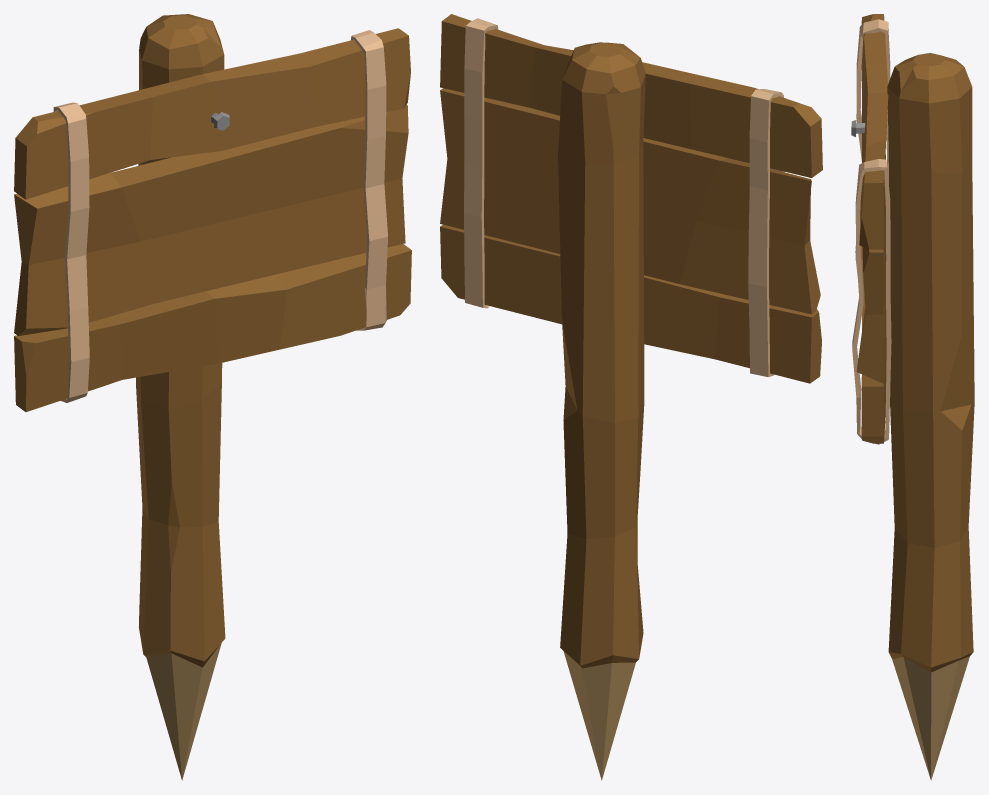
The picture shows the model from 3 angles, left to right: view 1: azimuth 30°, elevation 25°; view 2: azimuth 150°, elevation 25°; view 3: azimuth 270°, elevation 25°; orthographic projection. The views are drawn at different scales.
Visible parts, largest first — view 1: WoodenSign; view 2: WoodenSign; view 3: WoodenSign.
Boxes of the visible parts, x1,y1,x2,y2 form: WoodenSign: (14,14,411,780); WoodenSign: (440,14,822,780); WoodenSign: (851,14,974,780).
Size of the model in its own units: 0.836 by 1.57 by 0.2441.
1 material, 1 textured.
